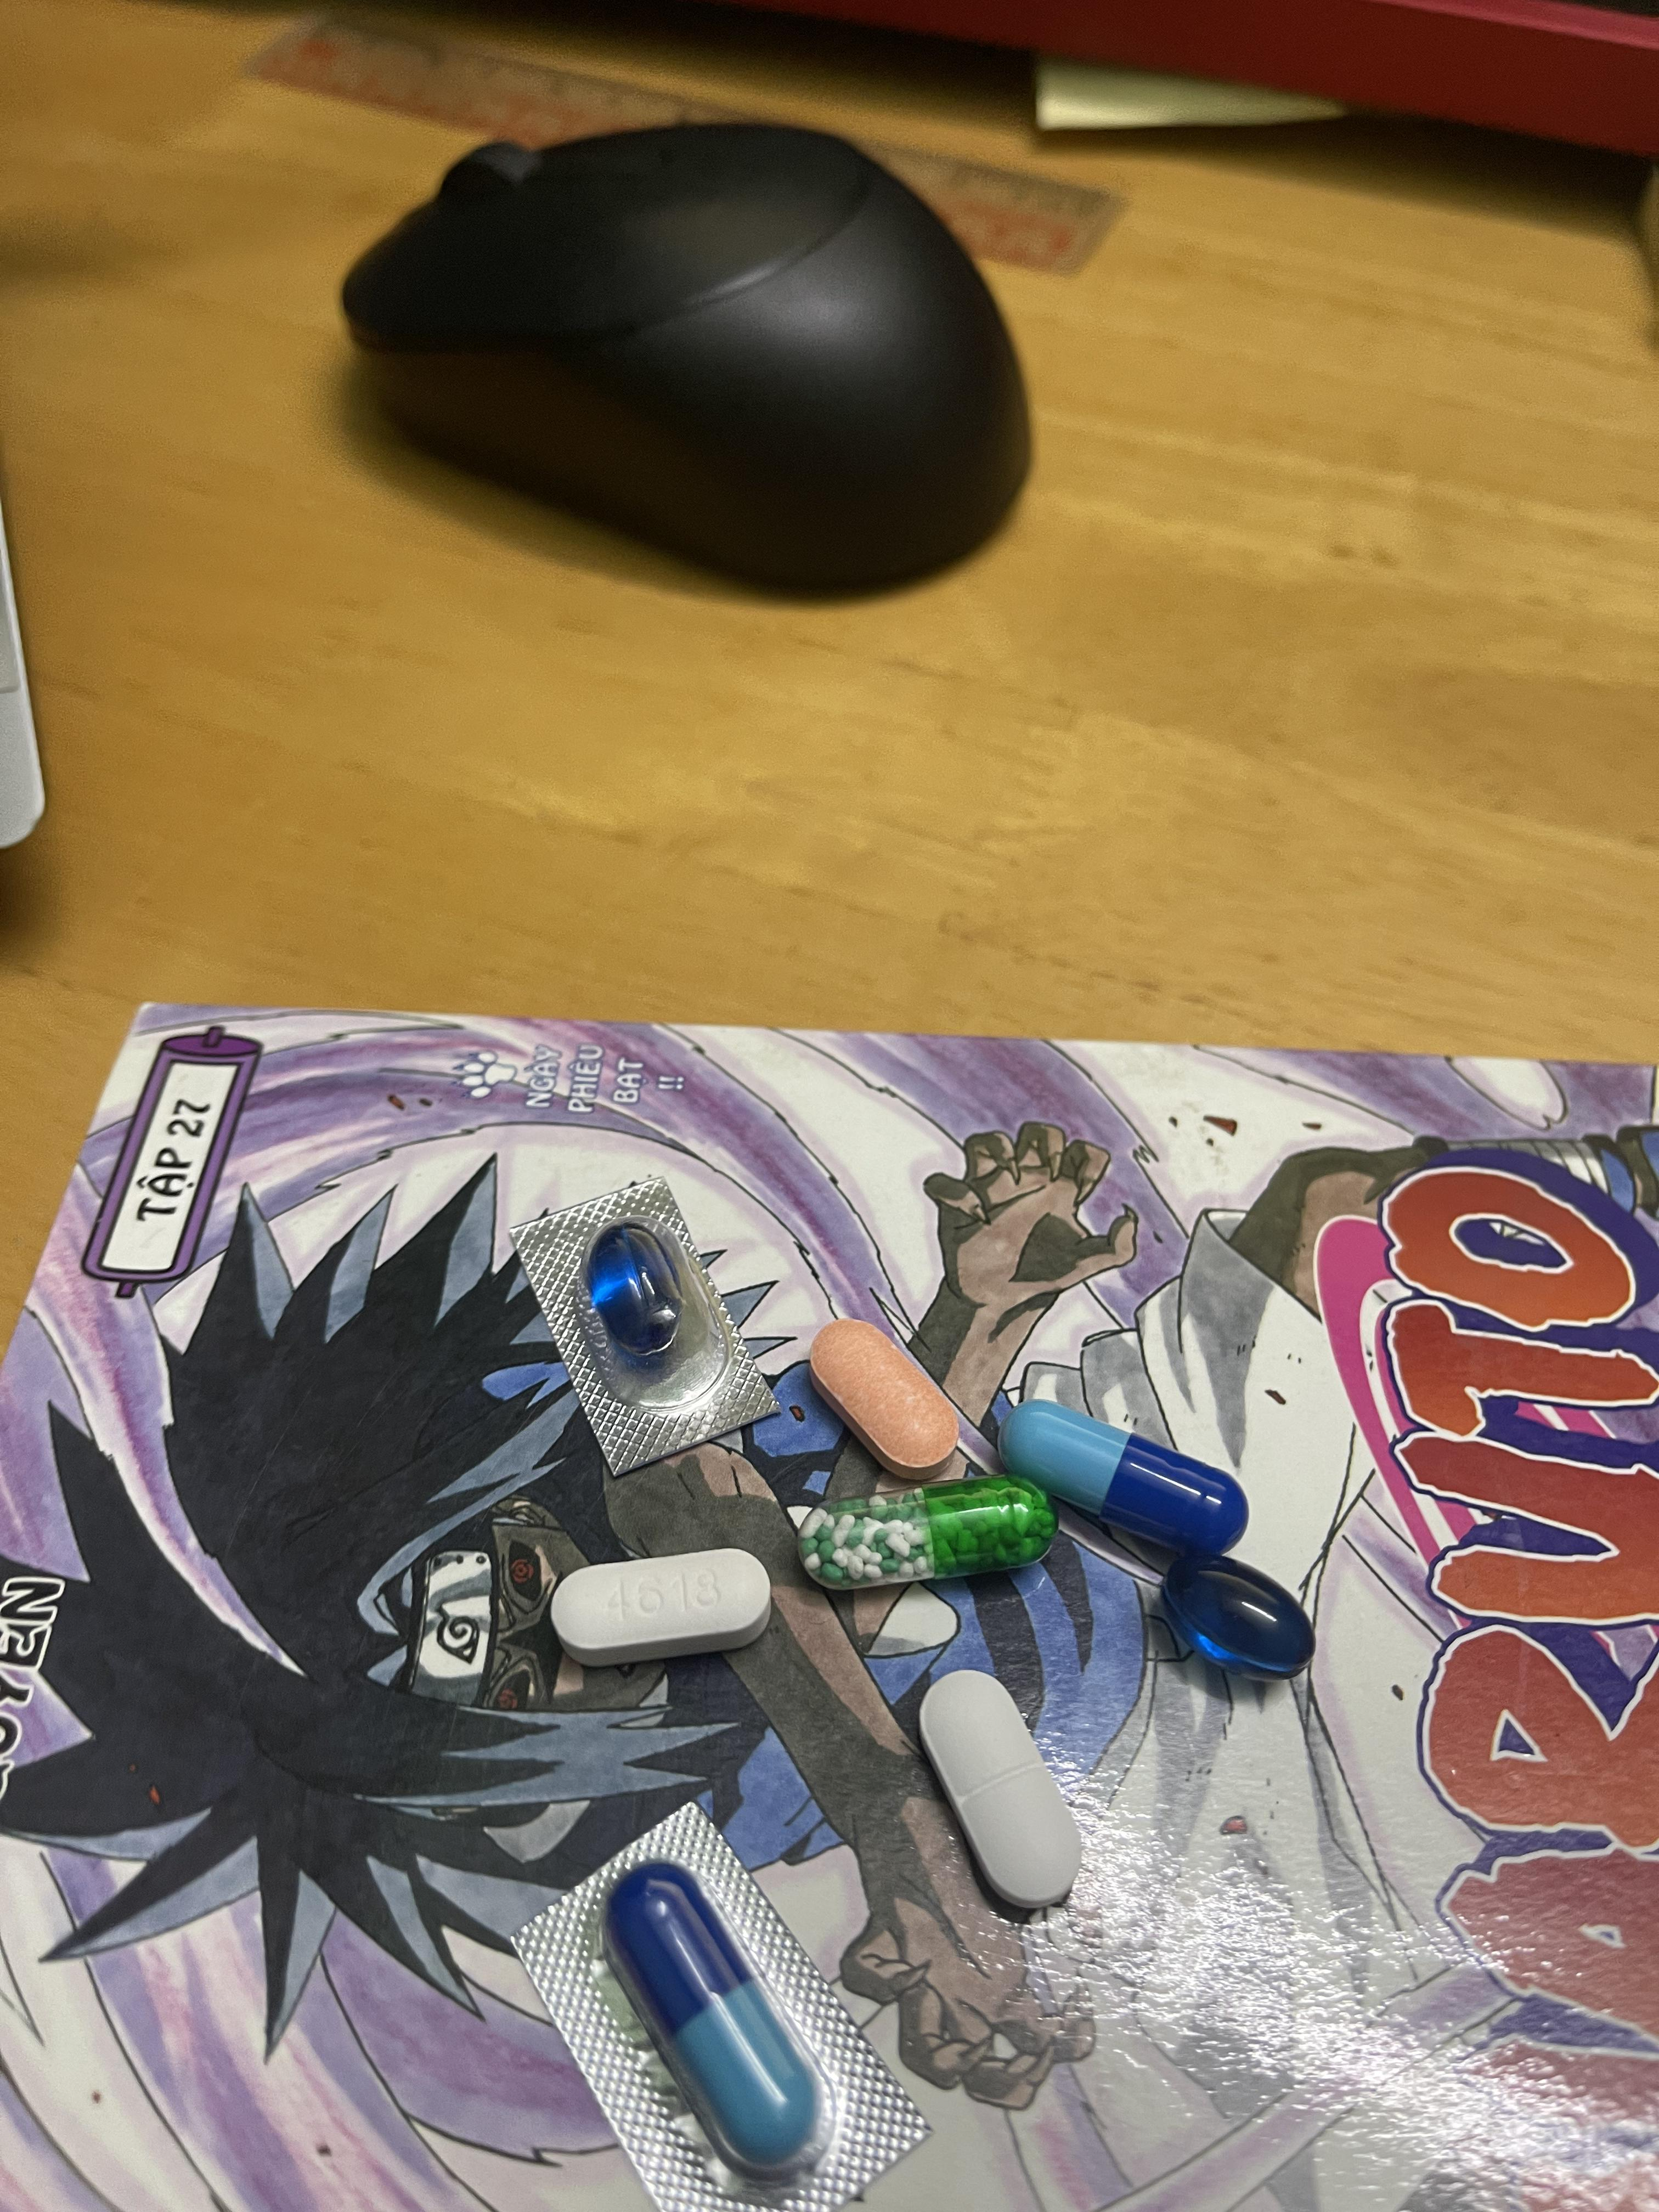Lincomyxin_500mg: (1157, 1552, 1309, 1679), (589, 1240, 683, 1362)
Loratadine_10mg: (812, 1320, 957, 1467)
Paracetamol_350mg: (917, 1665, 1084, 1909)
Paracetamol_500mg: (549, 1548, 772, 1670)
Paracetamol_650mg: (803, 1475, 1053, 1581)
pill: (606, 1878, 816, 2170), (1000, 1399, 1239, 1559)
